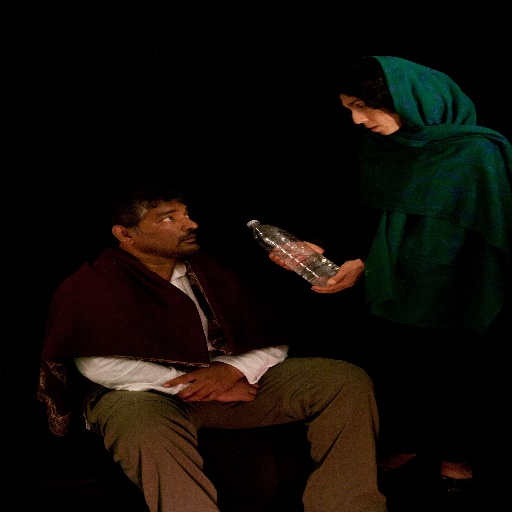hand: (169, 367, 241, 405), (309, 259, 365, 296), (265, 240, 324, 275), (210, 378, 261, 406)
